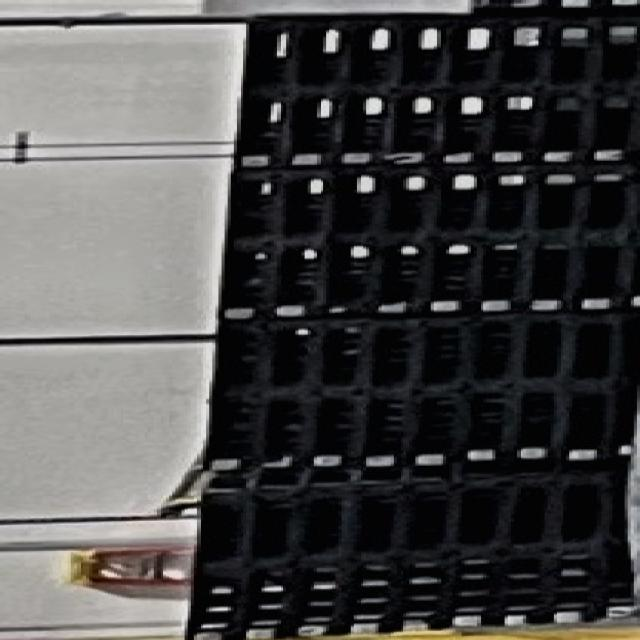igps: (172, 472, 252, 640), (190, 321, 262, 476), (240, 468, 304, 640), (226, 11, 295, 169), (206, 168, 274, 320), (390, 467, 450, 634), (254, 318, 318, 473), (407, 316, 468, 469), (338, 8, 397, 166), (358, 315, 418, 469), (267, 169, 328, 319), (347, 469, 401, 637), (447, 462, 501, 630), (293, 471, 346, 640), (370, 166, 430, 314), (560, 312, 618, 464), (549, 464, 603, 627), (510, 312, 569, 461), (319, 166, 377, 317), (290, 10, 345, 168), (522, 166, 580, 313), (307, 315, 362, 470), (460, 313, 516, 465), (472, 166, 529, 314), (498, 464, 549, 629), (539, 8, 592, 164), (572, 166, 627, 313), (443, 9, 494, 165), (494, 9, 545, 164), (590, 9, 640, 164), (424, 166, 476, 315), (396, 8, 442, 167), (598, 464, 637, 621), (611, 310, 640, 460)
